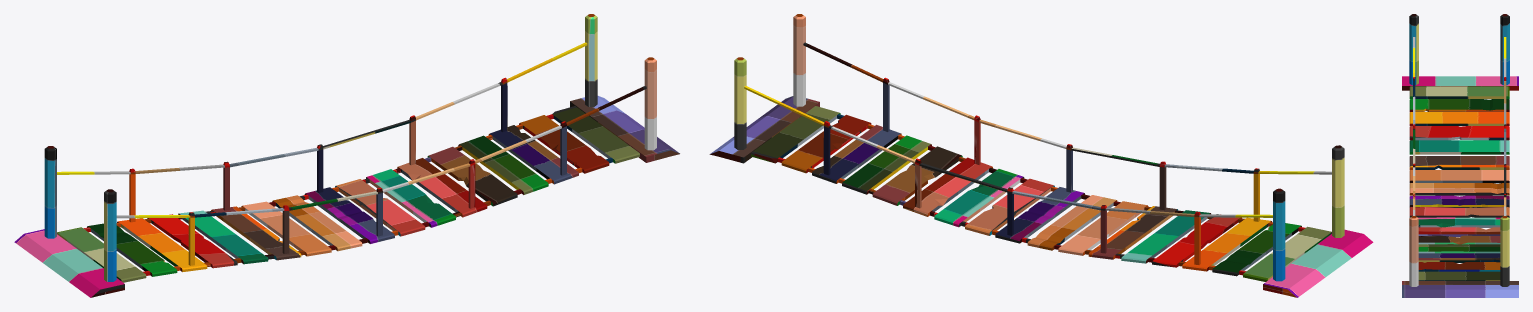
The model's file is SM_Wooden_Bridge_01.fbx.
3 renders of one model, left to right at view 1: azimuth 30°, elevation 25°; view 2: azimuth 150°, elevation 25°; view 3: azimuth 270°, elevation 25°, orthographic. The views are drawn at different scales.
Visible parts, largest first — view 1: Wooden_Bridge_01; view 2: Wooden_Bridge_01; view 3: Wooden_Bridge_01.
Boxes of the visible parts, x1=… form: Wooden_Bridge_01: x1=14, y1=14, x2=679, y2=297; Wooden_Bridge_01: x1=709, y1=14, x2=1373, y2=297; Wooden_Bridge_01: x1=1402, y1=14, x2=1518, y2=297.
Size of the model in its own units: 400 by 1784 by 330.
1 material, 1 textured.
